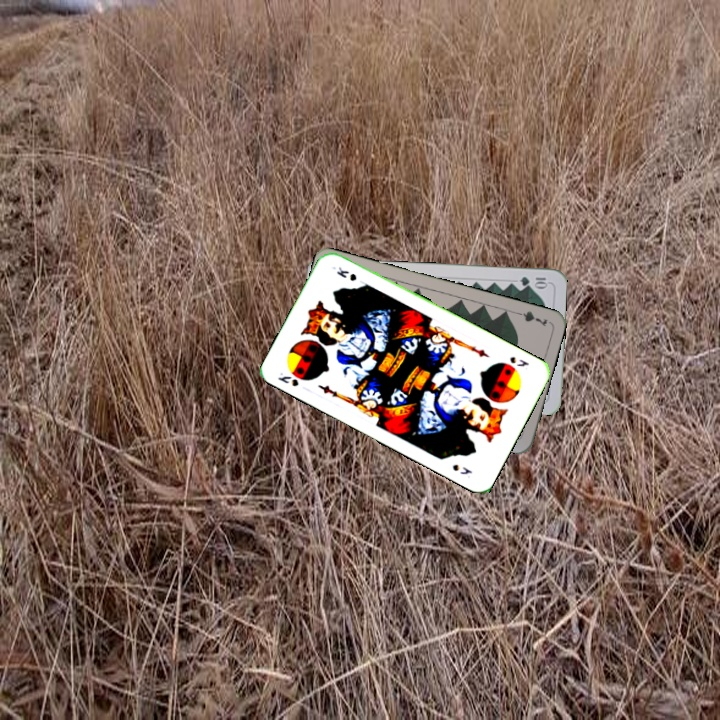G10: (516, 273, 551, 289)
G7: (510, 307, 550, 329)
SK: (274, 368, 301, 389), (506, 352, 532, 369)
